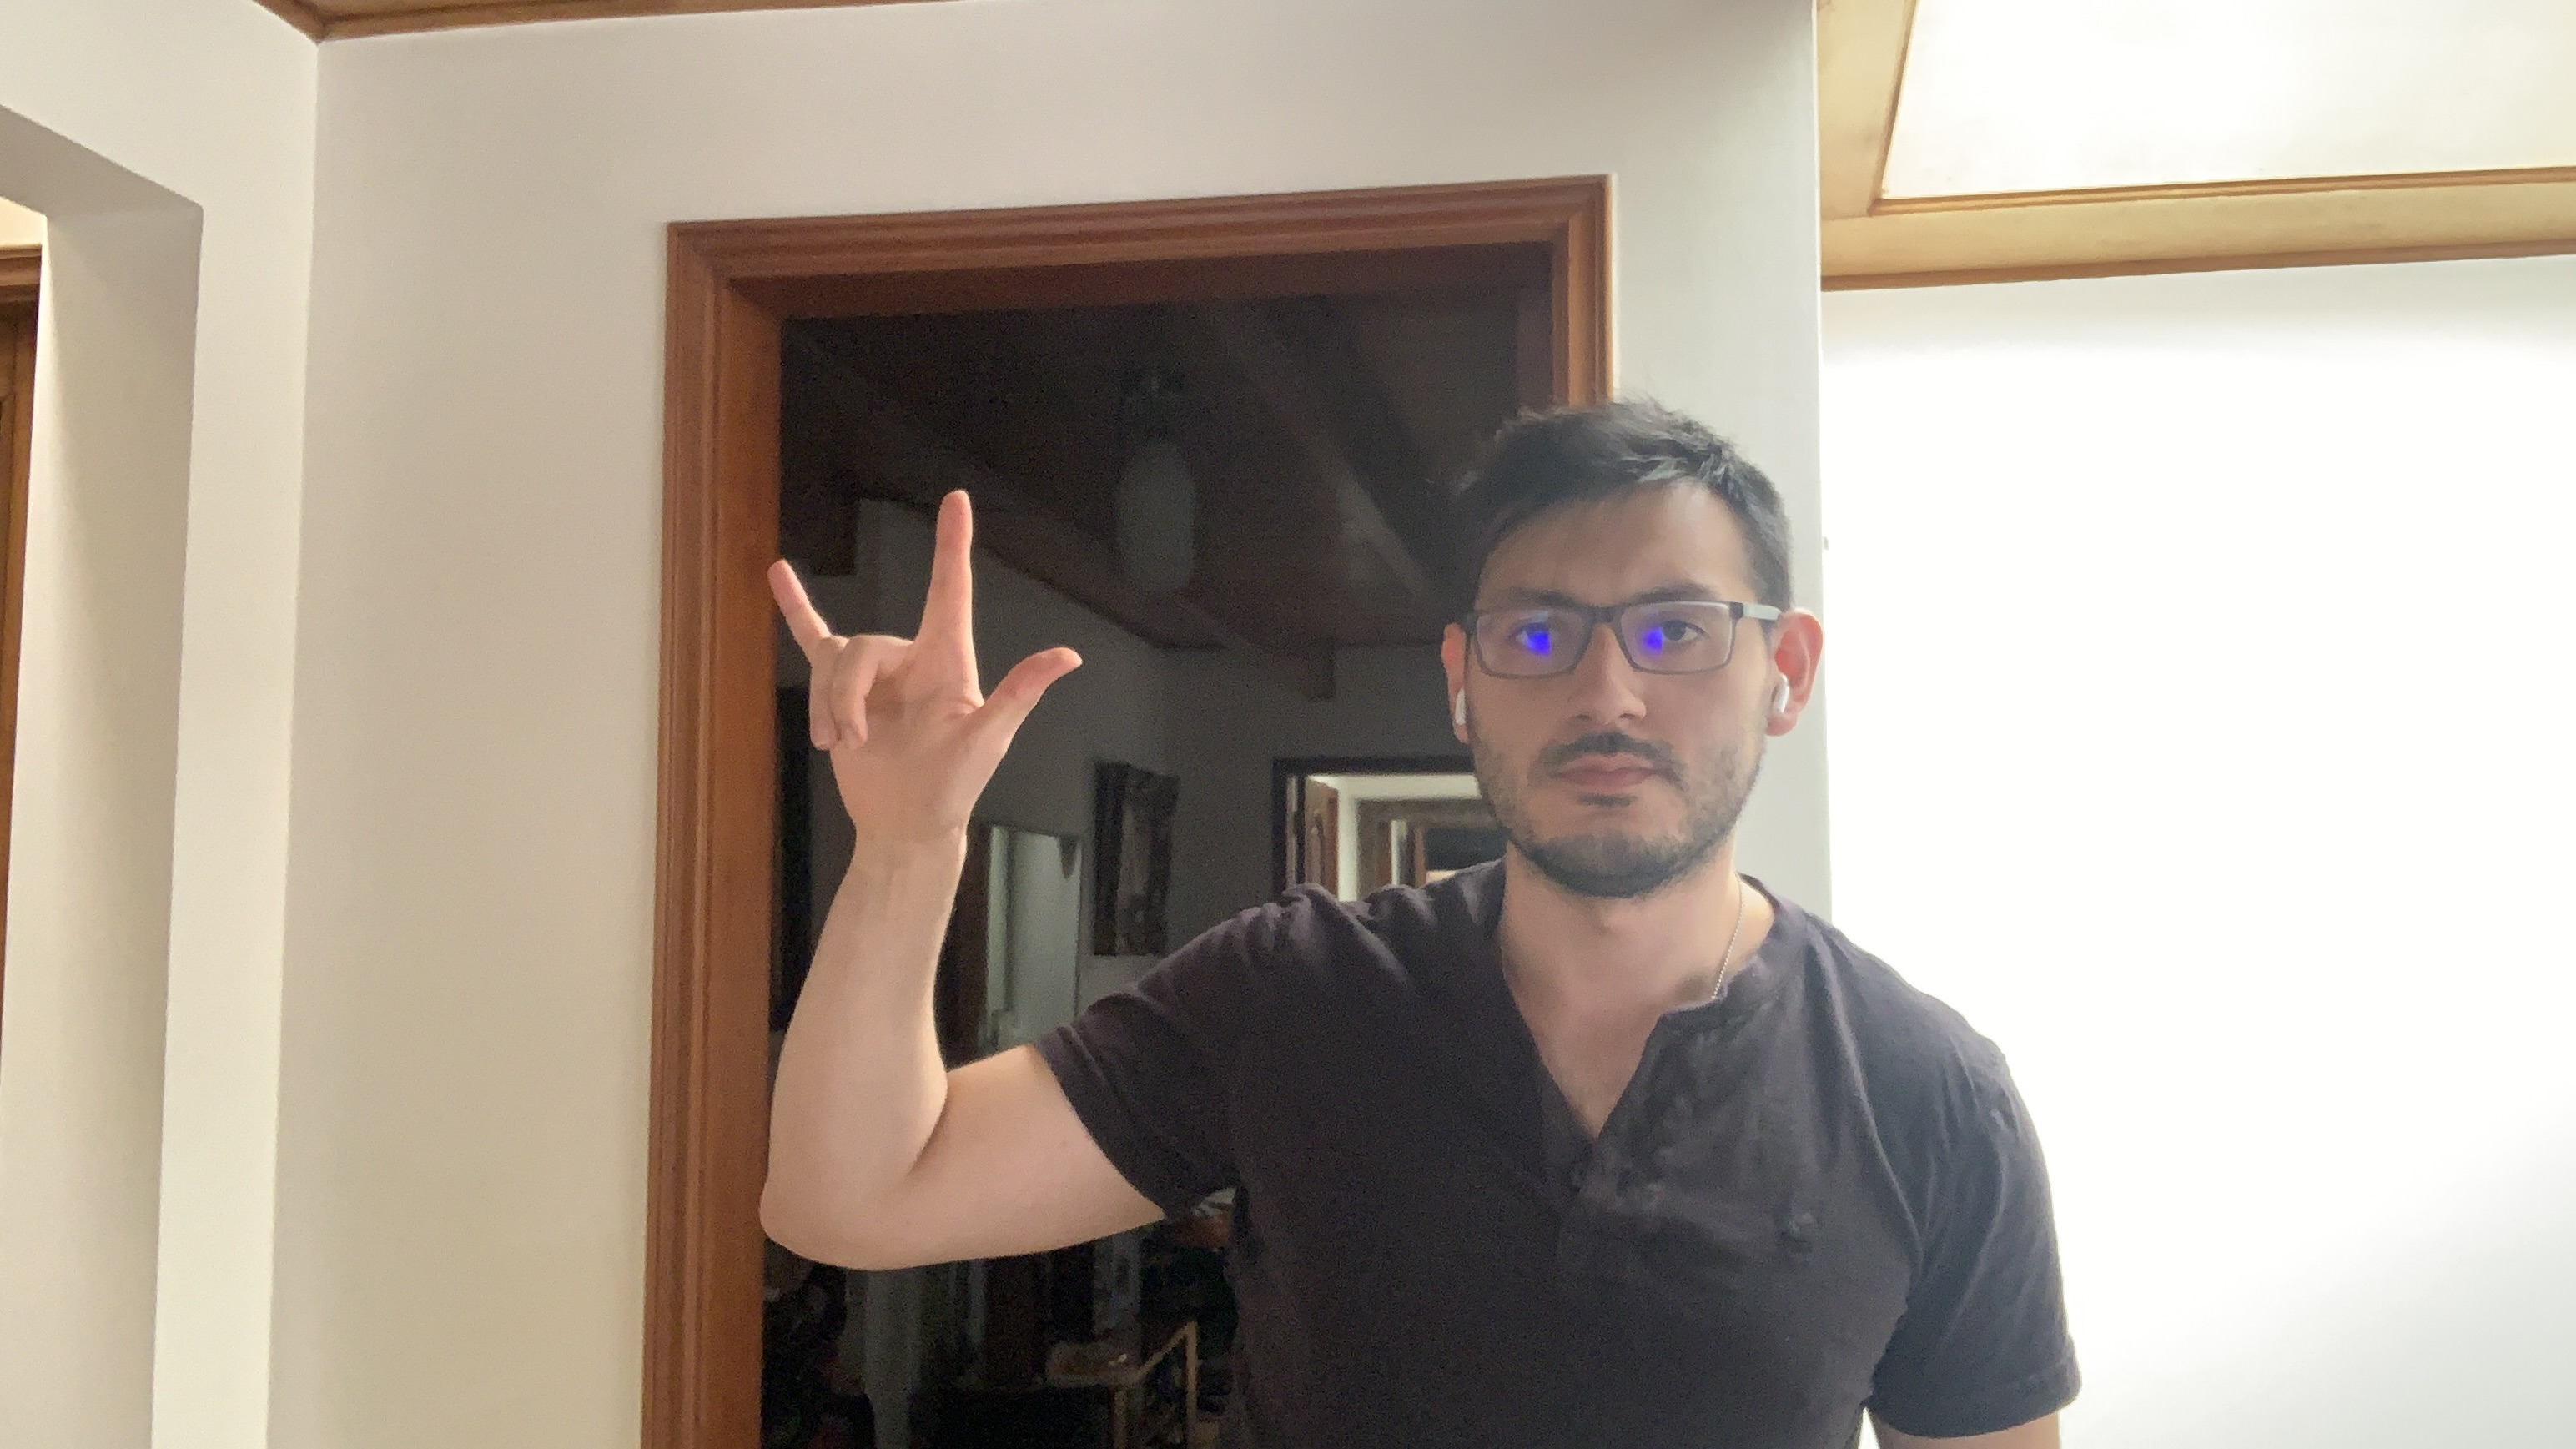I Love You: (752, 478, 1100, 844)
